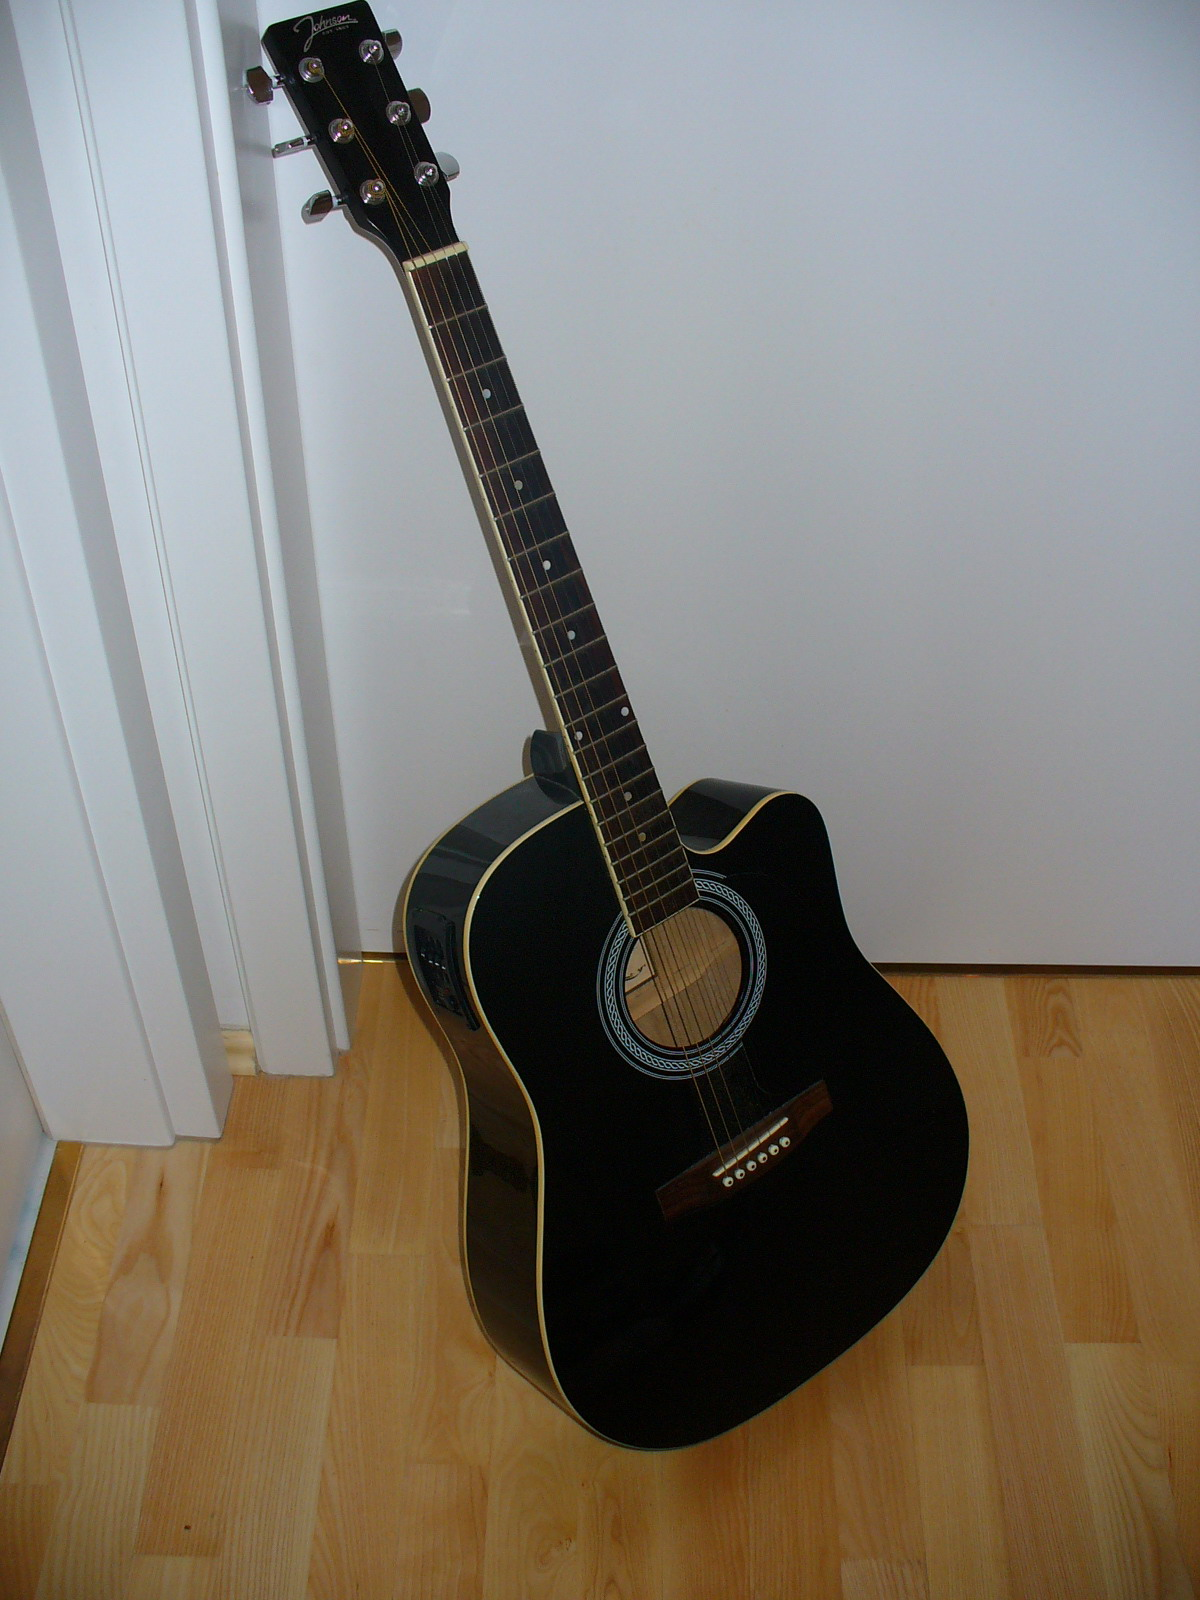guitar: (248, 9, 973, 1458)
